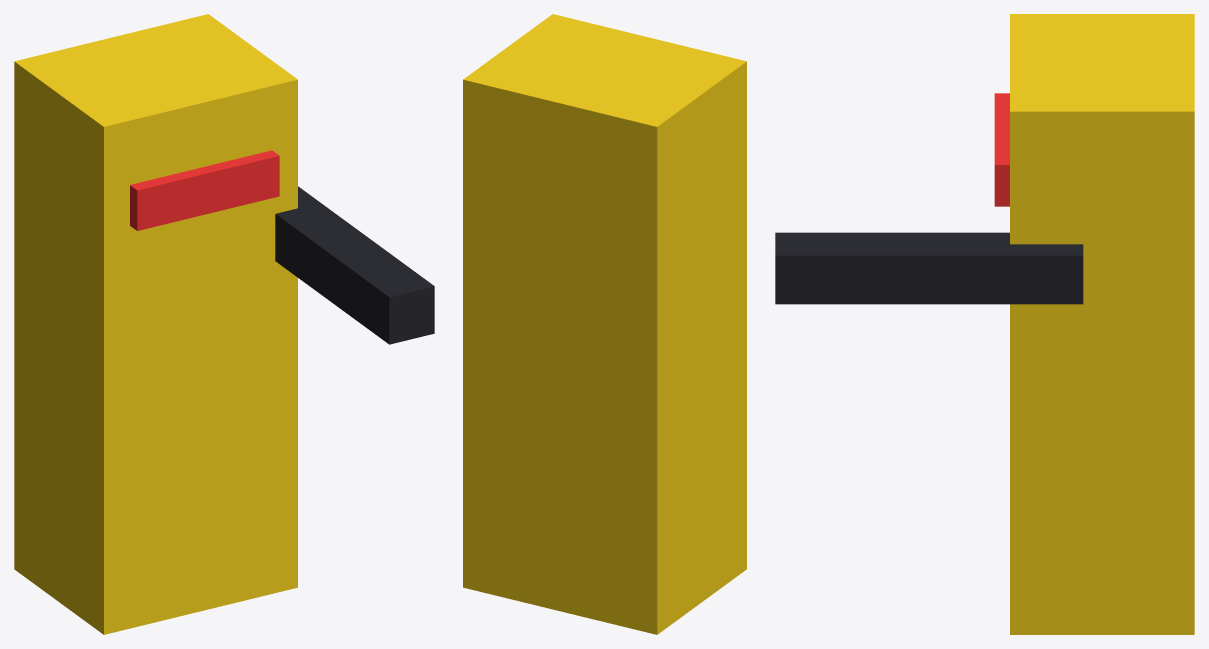
File: slowGunnerWindup.obj
3 renders of one model, left to right at view 1: azimuth 30°, elevation 25°; view 2: azimuth 150°, elevation 25°; view 3: azimuth 270°, elevation 25°, orthographic. The views are drawn at different scales.
Bounding box in the file's own units: 0.67 × 1.5 × 1.09.
